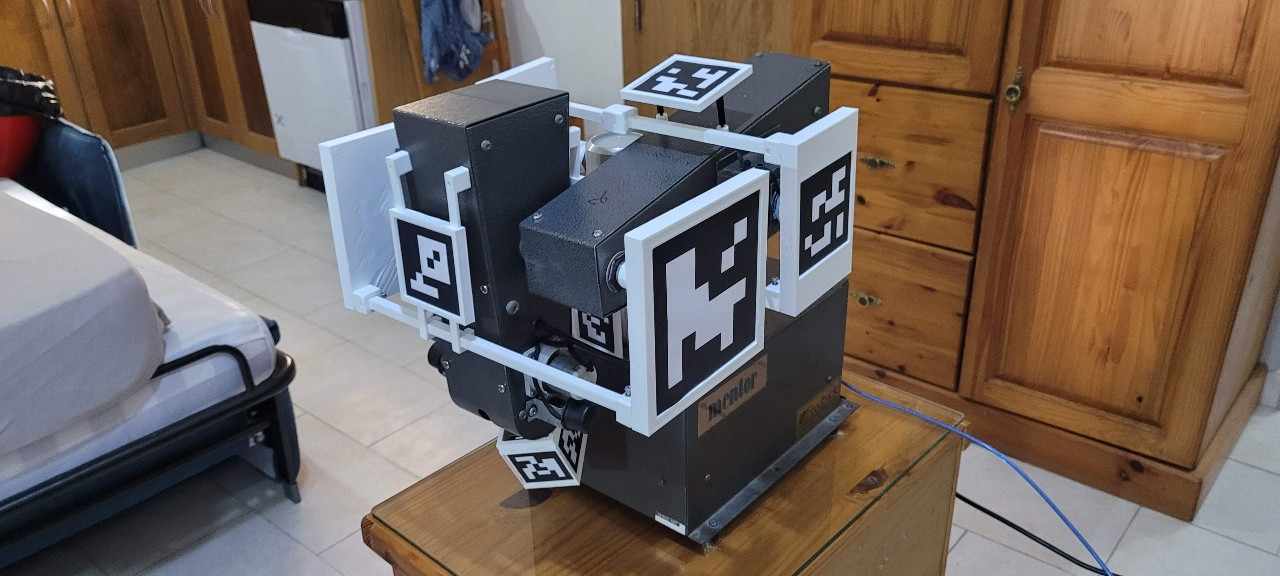Robot: (316, 48, 862, 492)
